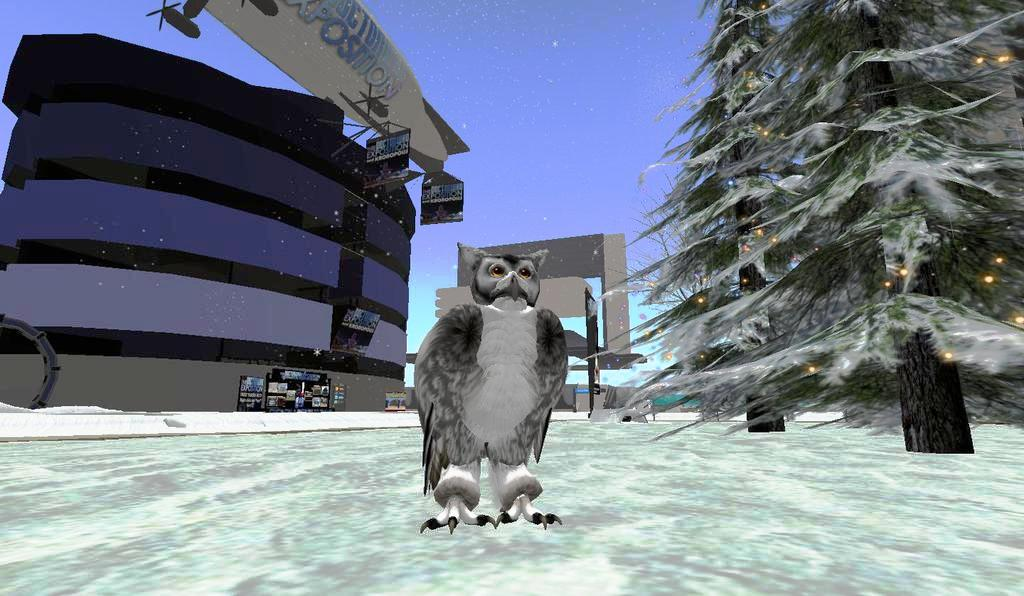Owl: (414, 238, 570, 532)
